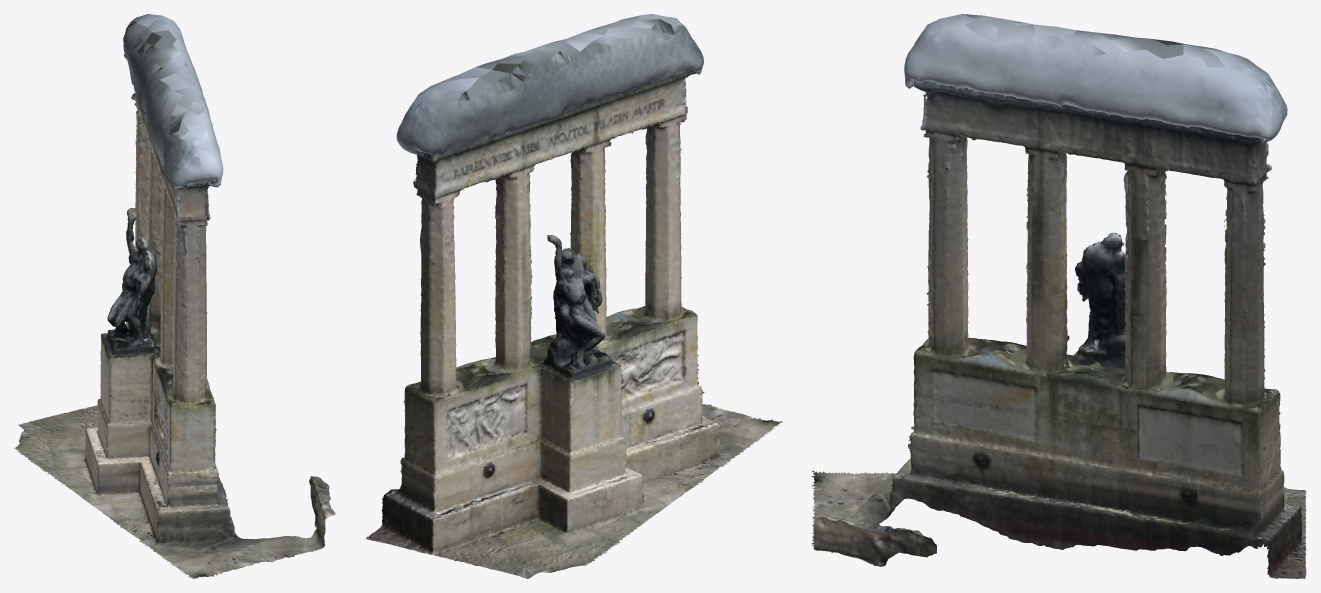
File: M03_UribeUribe.glb
3 renders of one model, left to right at view 1: azimuth 30°, elevation 25°; view 2: azimuth 150°, elevation 25°; view 3: azimuth 270°, elevation 25°, orthographic. The views are drawn at different scales.
Visible parts, largest first — view 1: modelo; view 2: modelo; view 3: modelo.
Boxes of the visible parts, left/top/right/bottom form: modelo: left=14, top=14, right=335, bottom=578; modelo: left=365, top=14, right=782, bottom=578; modelo: left=811, top=14, right=1306, bottom=578.
Size of the model in its own units: 3.76 by 8.25 by 7.4.
1 material, 1 textured.
